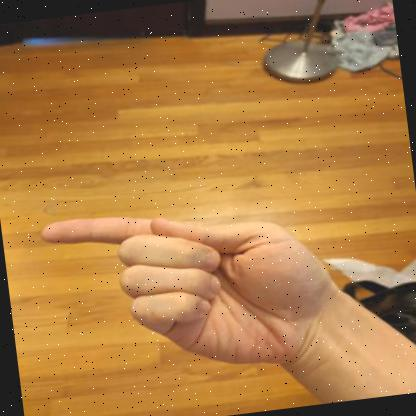G: (41, 217, 344, 365)
